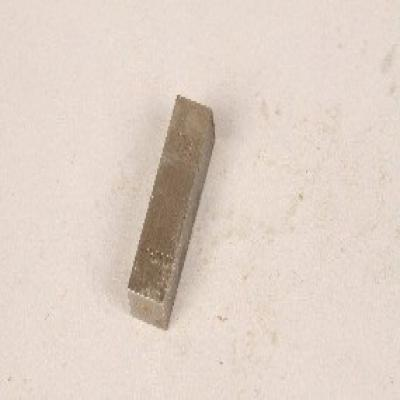technique: (126, 97, 216, 331)
